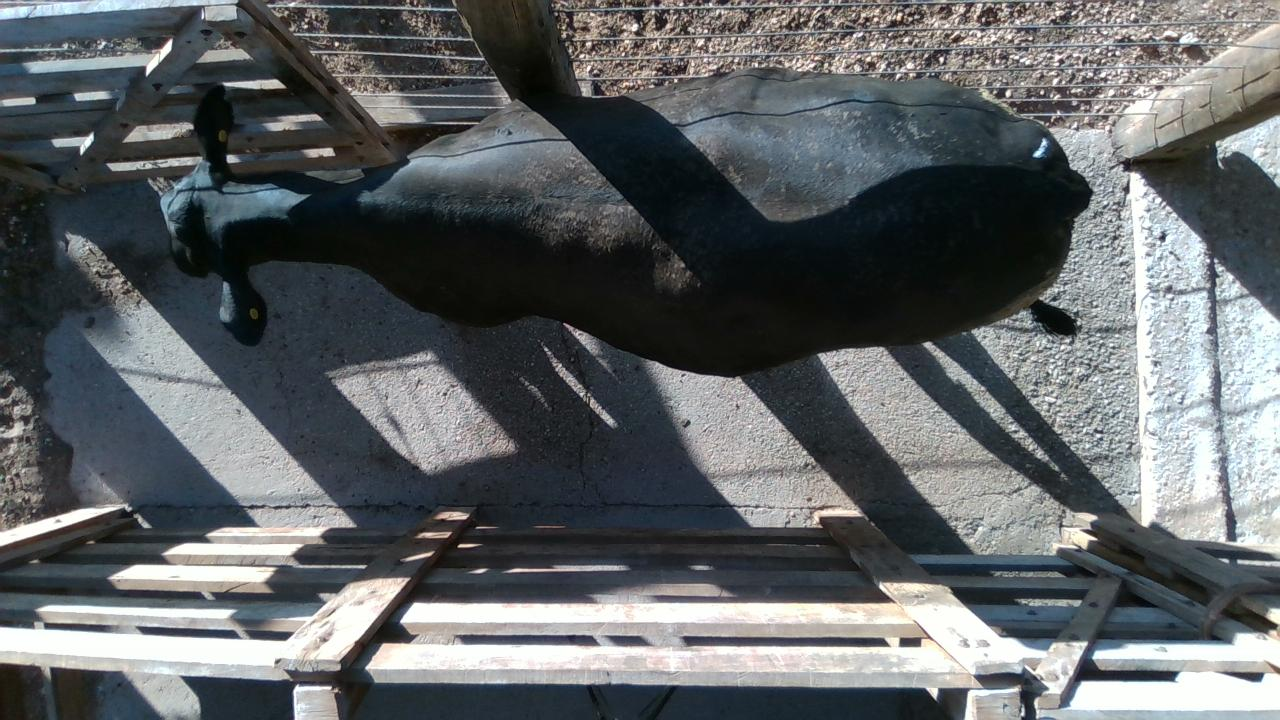cattle: (159, 64, 1092, 378)
